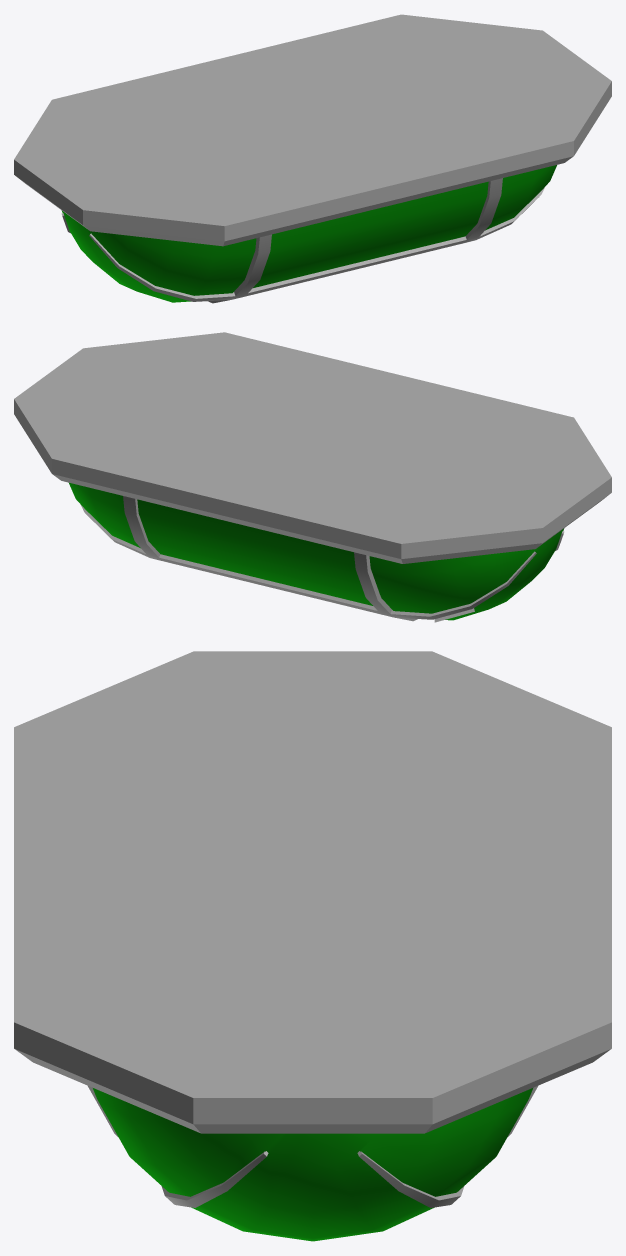
File: Lamp2.fbx
The picture shows the model from 3 angles, top to bottom: view 1: azimuth 30°, elevation 25°; view 2: azimuth 150°, elevation 25°; view 3: azimuth 270°, elevation 25°; orthographic projection. The views are drawn at different scales.
Visible parts, largest first — view 1: LampModelV2, LampeEmission; view 2: LampModelV2, LampeEmission; view 3: LampModelV2, LampeEmission.
Boxes of the visible parts, x1,y1,x2,y2 form: LampModelV2: [14, 14, 611, 303]; LampeEmission: [61, 165, 556, 302]; LampModelV2: [14, 332, 611, 621]; LampeEmission: [69, 483, 564, 622]; LampModelV2: [14, 651, 611, 1207]; LampeEmission: [93, 1088, 532, 1241].
Size of the model in its own units: 0.0163 by 0.00422 by 0.0092.
